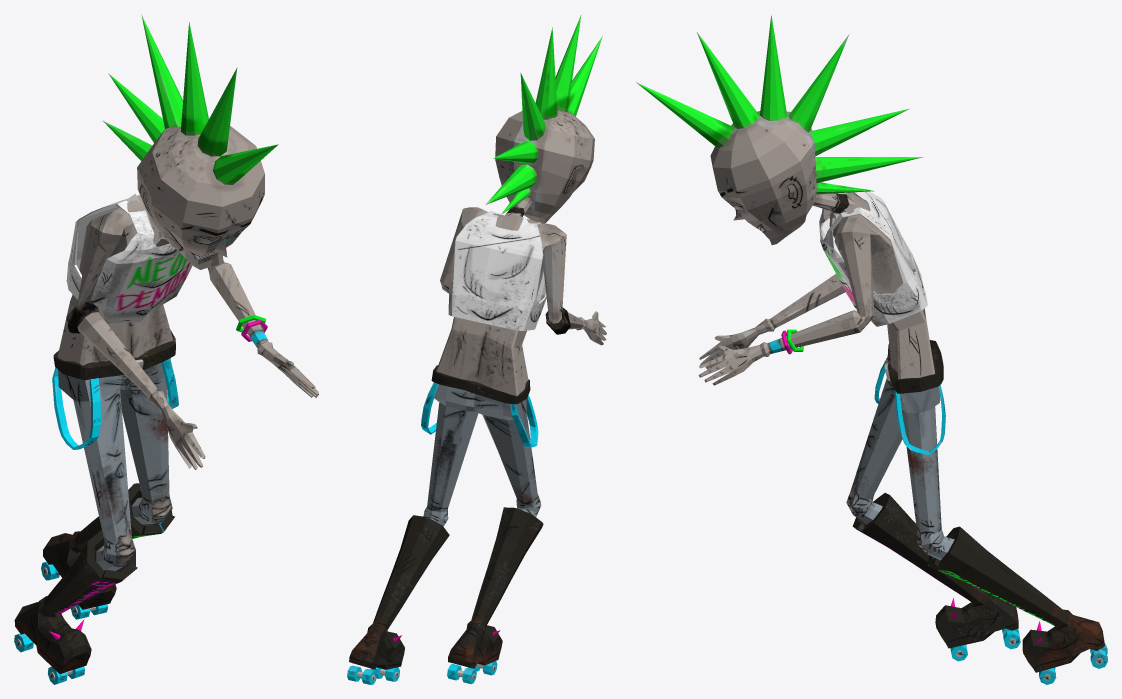
The model's file is punkAnimation_000052.obj.
3 renders of one model, left to right at view 1: azimuth 30°, elevation 25°; view 2: azimuth 150°, elevation 25°; view 3: azimuth 270°, elevation 25°, orthographic. The views are drawn at different scales.
Parts seen in each view (by area): view 1: Cube.004_Cube.003; view 2: Cube.004_Cube.003; view 3: Cube.004_Cube.003.
Part boxes in pixels (box(x1,y1,x2,y2)): Cube.004_Cube.003: box(14, 14, 318, 684); Cube.004_Cube.003: box(347, 15, 606, 684); Cube.004_Cube.003: box(636, 15, 1107, 684).
Bounding box in the file's own units: 1.56 × 6.64 × 4.38.
